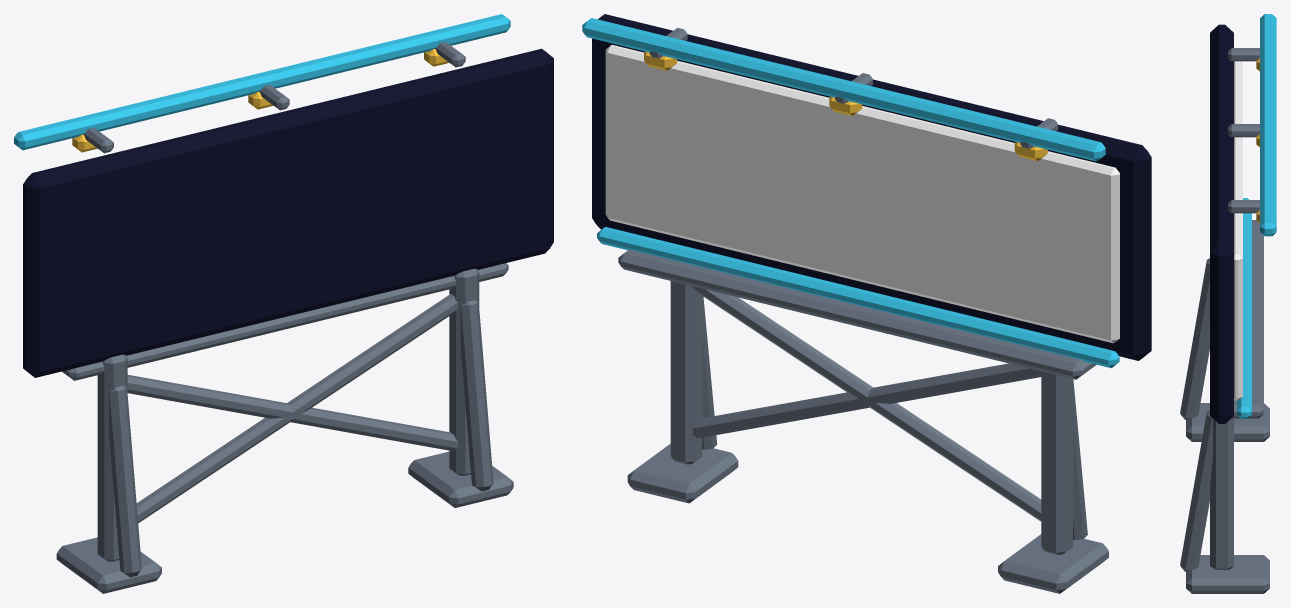
Rendered from Prop_hero_city_Billboard.glb.
3 views of the same model, side by side, from view 1: azimuth 30°, elevation 25°; view 2: azimuth 150°, elevation 25°; view 3: azimuth 270°, elevation 25° (orthographic). The views are drawn at different scales.
Parts seen in each view (by area): view 1: Ink_0D0F2B, StoneDark_6B7686, ZoneCyan_35C9F0, Gold_FFC83D; view 2: FaceWhite_FFFFFF, StoneDark_6B7686, ZoneCyan_35C9F0, Ink_0D0F2B, Gold_FFC83D; view 3: StoneDark_6B7686, Ink_0D0F2B, ZoneCyan_35C9F0, FaceWhite_FFFFFF.
Boxes of the visible parts, bbox=[...] form: Ink_0D0F2B: bbox=[23, 48, 553, 377]; StoneDark_6B7686: bbox=[56, 42, 513, 593]; ZoneCyan_35C9F0: bbox=[14, 14, 510, 150]; Gold_FFC83D: bbox=[72, 45, 450, 152]; FaceWhite_FFFFFF: bbox=[605, 45, 1119, 343]; StoneDark_6B7686: bbox=[618, 27, 1108, 593]; ZoneCyan_35C9F0: bbox=[582, 18, 1119, 368]; Ink_0D0F2B: bbox=[592, 14, 1151, 360]; Gold_FFC83D: bbox=[644, 51, 1047, 161]; StoneDark_6B7686: bbox=[1180, 48, 1269, 593]; Ink_0D0F2B: bbox=[1210, 24, 1233, 423]; ZoneCyan_35C9F0: bbox=[1237, 14, 1276, 418]; FaceWhite_FFFFFF: bbox=[1234, 61, 1242, 400].
Size of the model in its own units: 18 by 14.3 by 3.21.
